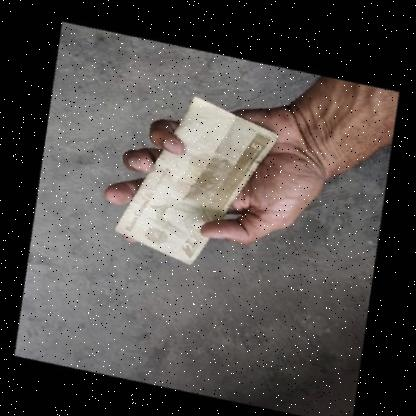five-back-vef: (98, 78, 294, 276)
